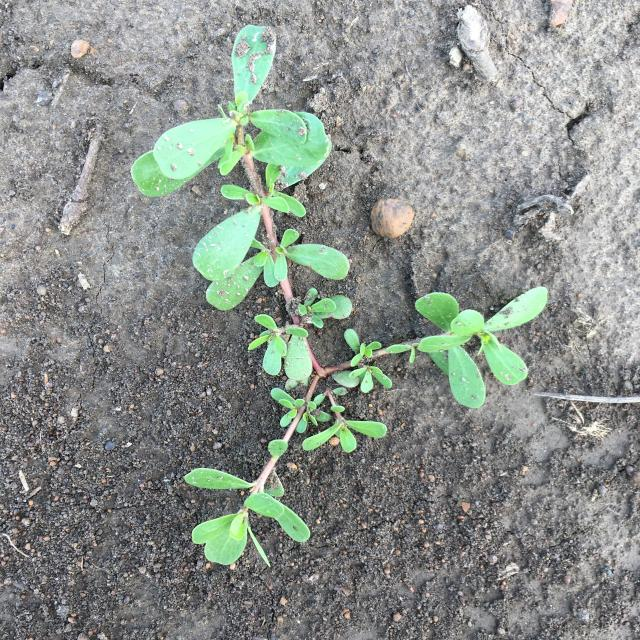Purslane: (131, 24, 548, 567)
